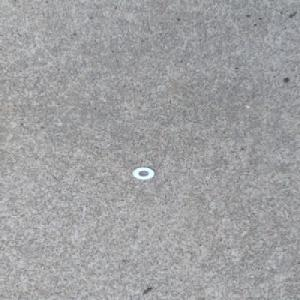Washer: (130, 166, 156, 181)
